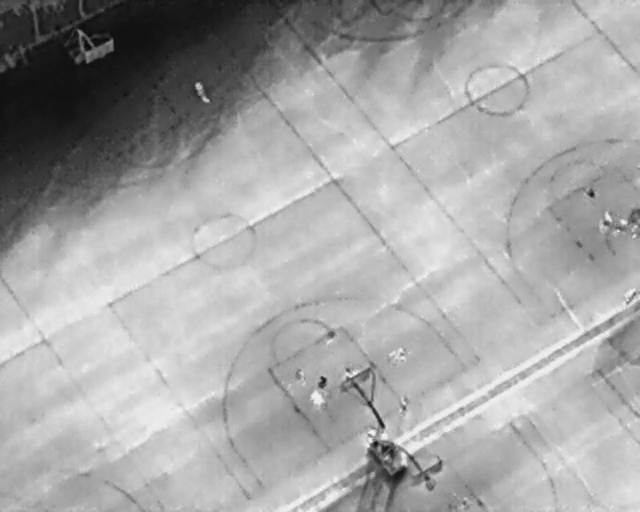Person: (382, 341, 411, 372), (191, 76, 213, 108), (596, 209, 616, 235), (612, 215, 630, 238), (319, 327, 338, 348), (621, 288, 639, 306), (342, 367, 364, 381), (292, 366, 306, 387), (397, 395, 411, 416), (309, 390, 326, 407), (629, 222, 640, 237)
